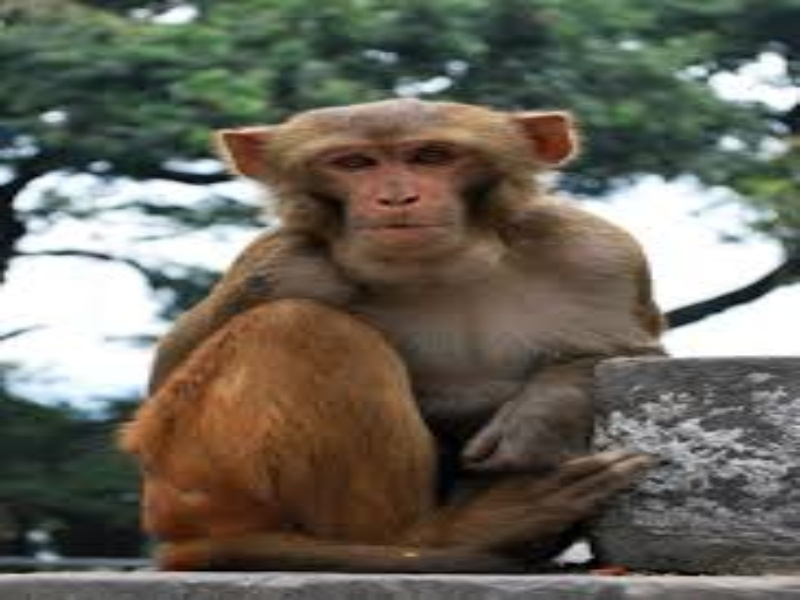monkey: (121, 82, 681, 572)
